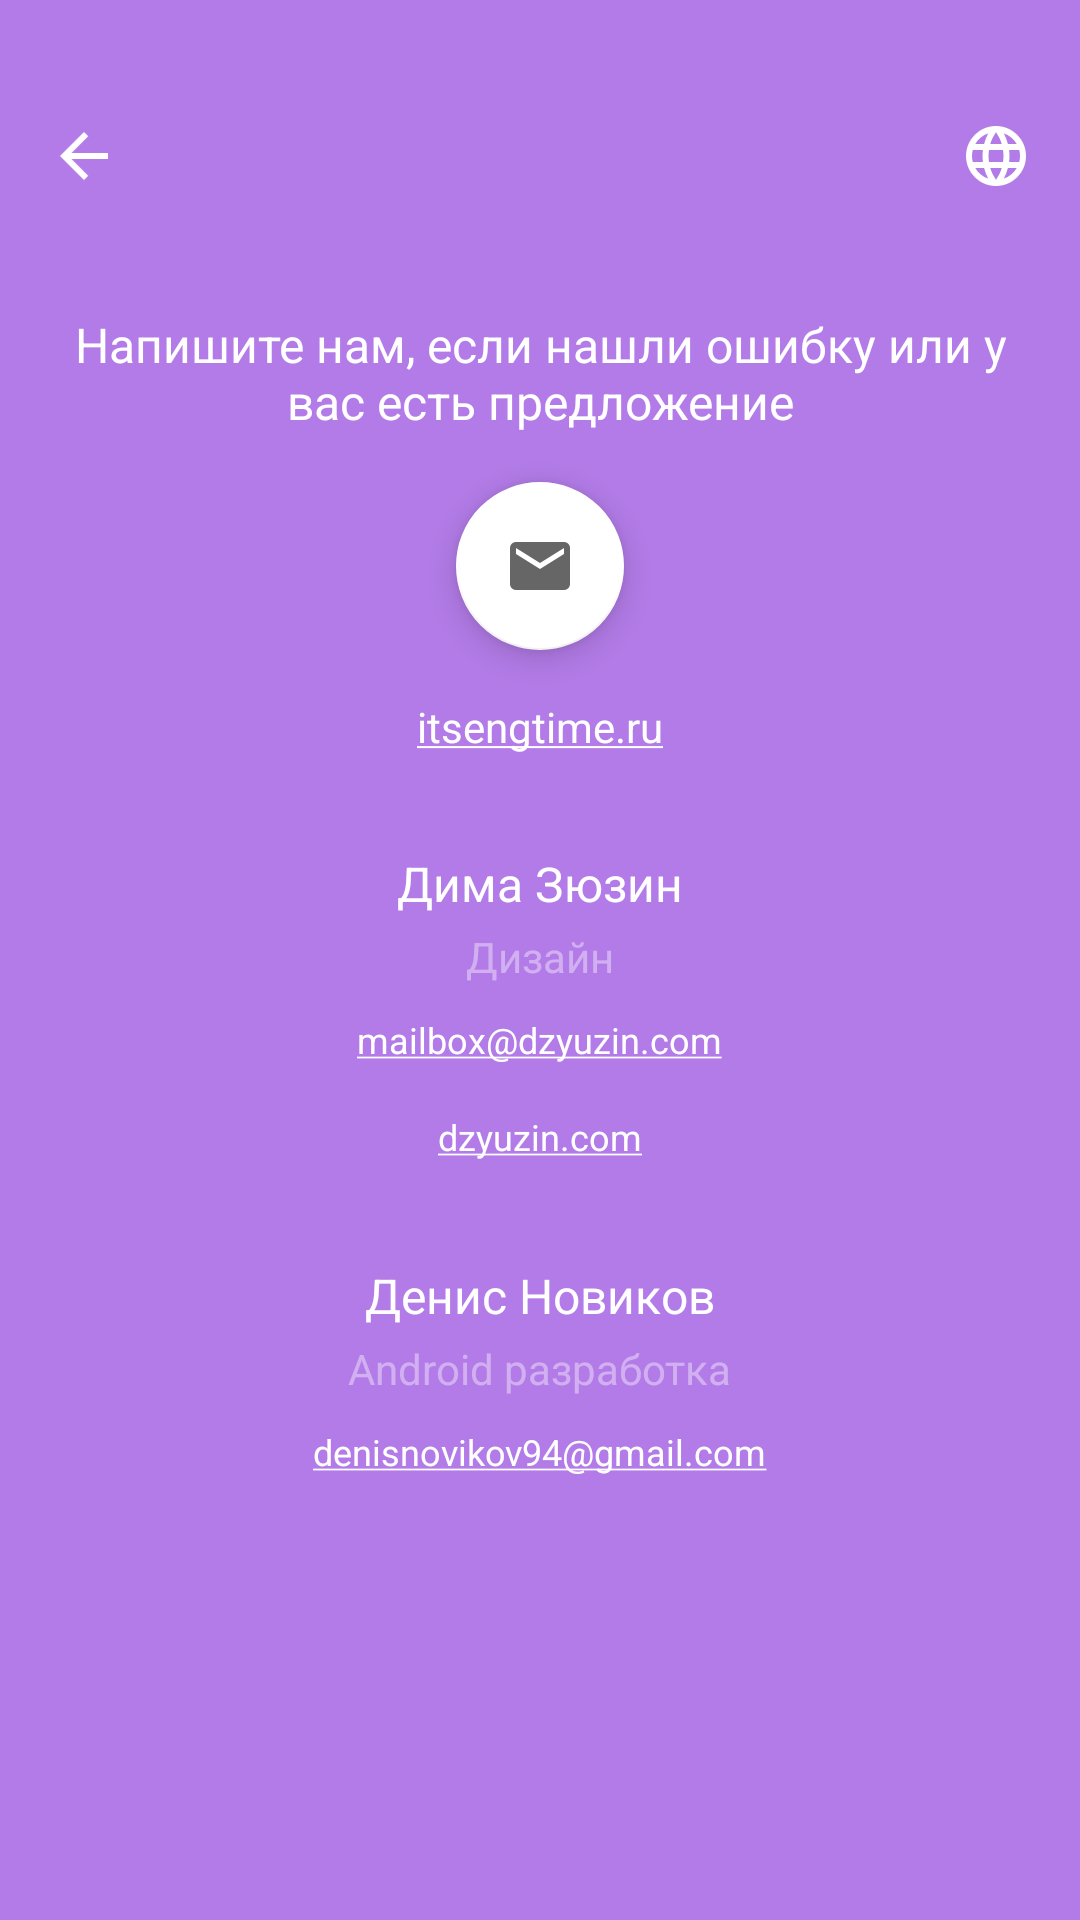

Icon bounding boxes for this 1080w x 1920h phone screenshot, format (x1, y1, x2, y2):
arrow left: (60, 132, 108, 180)
envelope: (456, 482, 624, 650)
planet: (966, 126, 1026, 186)
